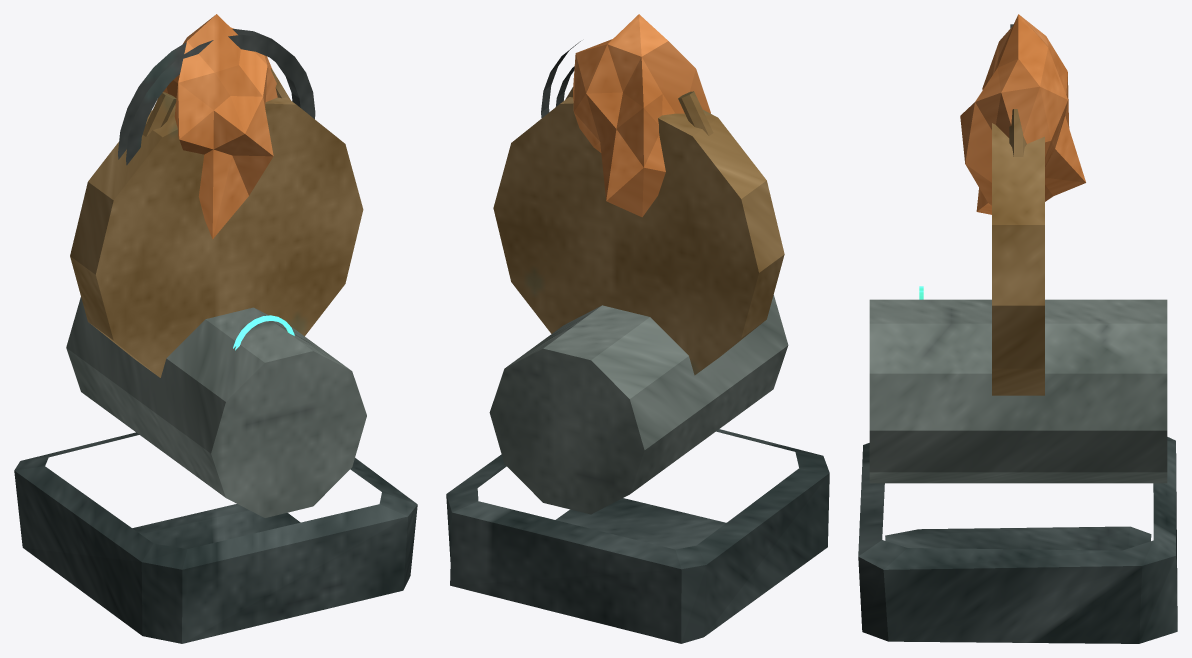
File: 0577_relic_pedestal_02.glb
3 renders of one model, left to right at view 1: azimuth 30°, elevation 25°; view 2: azimuth 150°, elevation 25°; view 3: azimuth 270°, elevation 25°, orthographic. The views are drawn at different scales.
Parts seen in each view (by area): view 1: brass, stone_dark, stone, amber, iron; view 2: brass, stone_dark, stone, amber, iron; view 3: stone, stone_dark, brass, amber.
Part boxes in pixels (x1,y1,x2,y2): brass: [70, 68, 363, 377]; stone_dark: [14, 432, 417, 643]; stone: [66, 297, 366, 517]; amber: [163, 14, 277, 238]; iron: [118, 29, 315, 165]; brass: [493, 87, 784, 375]; stone_dark: [446, 429, 829, 643]; stone: [489, 295, 788, 514]; amber: [573, 14, 710, 217]; iron: [541, 41, 580, 117]; stone: [869, 299, 1167, 483]; stone_dark: [858, 437, 1177, 643]; brass: [992, 109, 1044, 395]; amber: [960, 14, 1085, 214].
Bounding box in the file's own units: 0.9709 × 1.91 × 0.9665.
6 materials, 6 textured.
